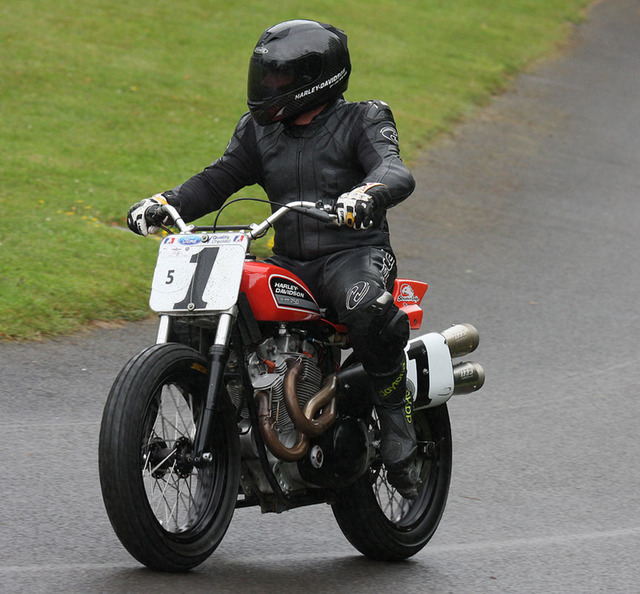helmet: (247, 20, 357, 123)
